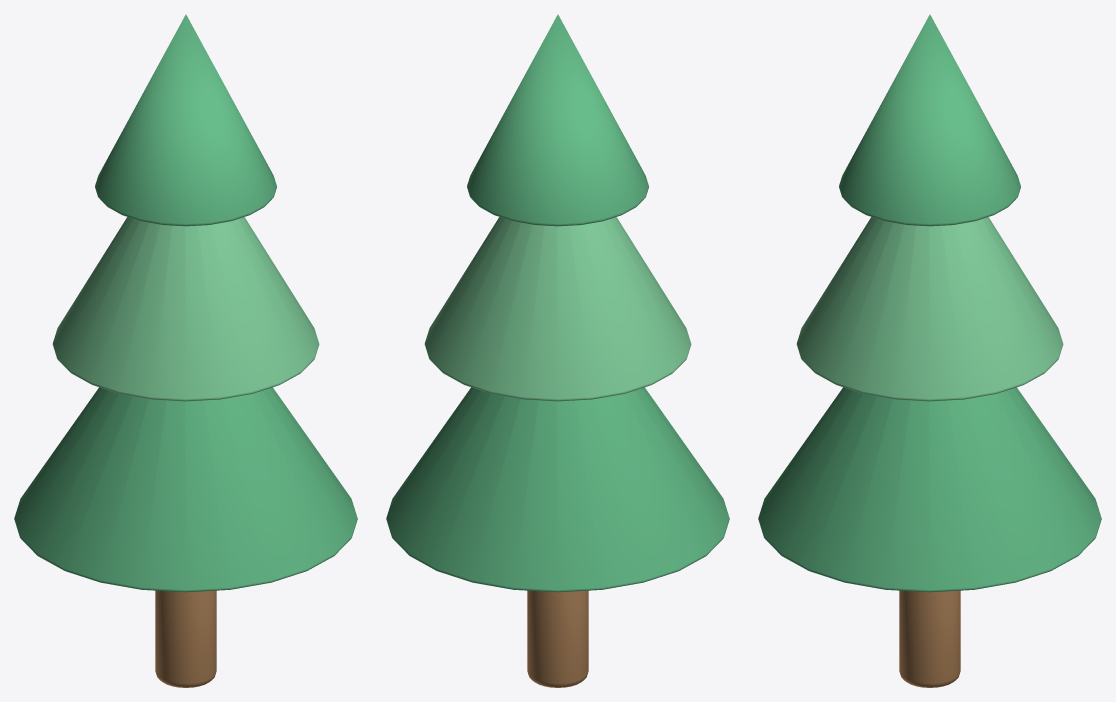
The model's file is tree_pine.glb.
3 views of the same model, side by side, from view 1: azimuth 30°, elevation 25°; view 2: azimuth 150°, elevation 25°; view 3: azimuth 270°, elevation 25° (orthographic).
Visible parts, largest first — view 1: tree_pine; view 2: tree_pine; view 3: tree_pine.
Boxes of the visible parts, <box> form: tree_pine: <box>14,14,357,687</box>; tree_pine: <box>386,14,729,687</box>; tree_pine: <box>758,14,1101,687</box>.
Bounding box in the file's own units: 0.8921 × 1.9 × 0.8921.
